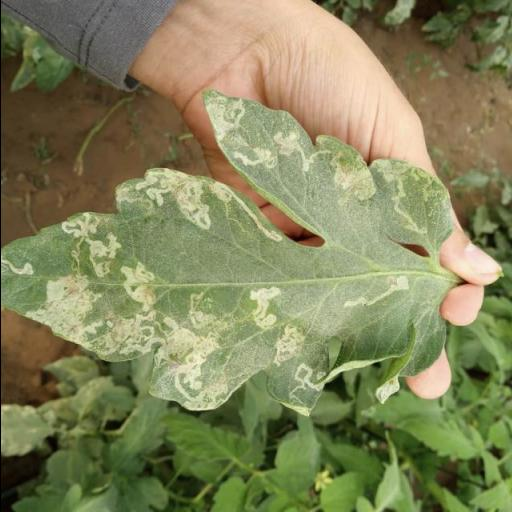Leaf Miner: (0, 88, 452, 413)
